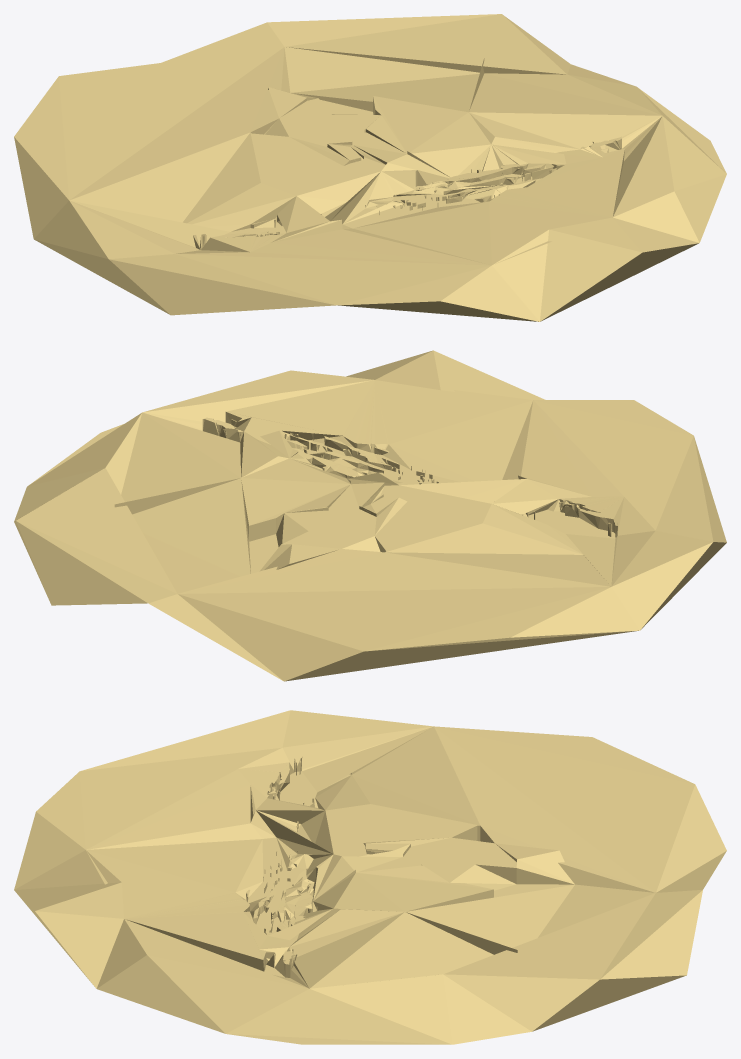
The model's file is viking-emblem.glb.
3 renders of one model, top to bottom at view 1: azimuth 30°, elevation 25°; view 2: azimuth 150°, elevation 25°; view 3: azimuth 270°, elevation 25°, orthographic.
Visible parts, largest first — view 1: Viking 40th Anniversary Emblem.stl; view 2: Viking 40th Anniversary Emblem.stl; view 3: Viking 40th Anniversary Emblem.stl.
Part boxes in pixels (box(x1,y1,x2,y2)): Viking 40th Anniversary Emblem.stl: box(14, 14, 726, 321); Viking 40th Anniversary Emblem.stl: box(14, 350, 726, 681); Viking 40th Anniversary Emblem.stl: box(14, 710, 726, 1044).
Size of the model in its own units: 83.44 by 5 by 83.73.
